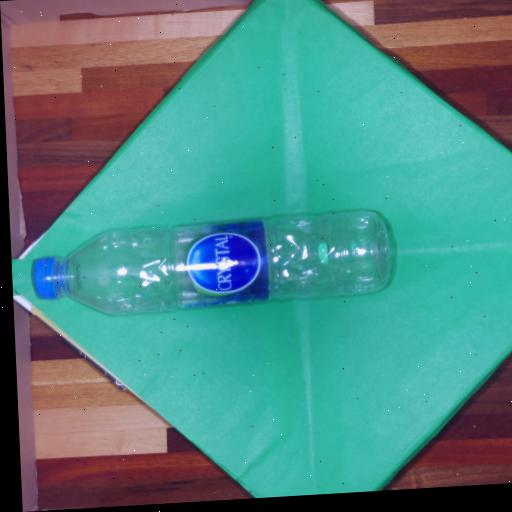bottle: (21, 207, 396, 316)
